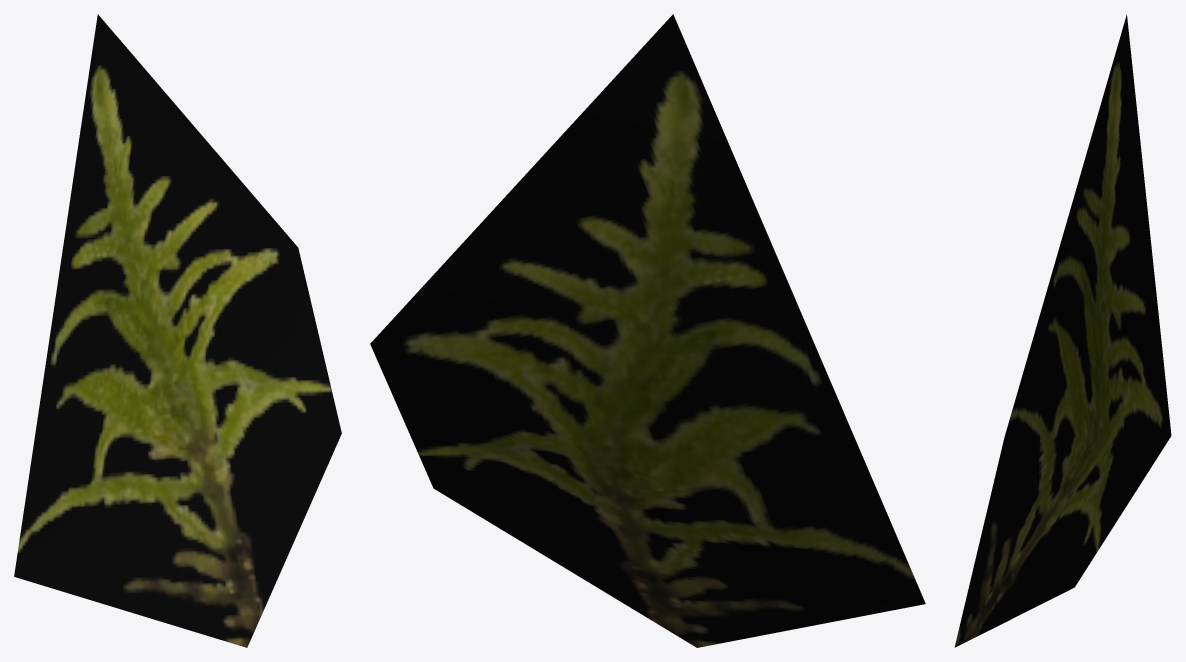
Rendered from moss_01_h.glb.
3 views of the same model, side by side, from view 1: azimuth 30°, elevation 25°; view 2: azimuth 150°, elevation 25°; view 3: azimuth 270°, elevation 25° (orthographic). The views are drawn at different scales.
Parts seen in each view (by area): view 1: moss_01_h_LOD0; view 2: moss_01_h_LOD0; view 3: moss_01_h_LOD0.
Part boxes in pixels (x1,y1,x2,y2): moss_01_h_LOD0: (14, 14, 341, 647); moss_01_h_LOD0: (370, 14, 925, 647); moss_01_h_LOD0: (954, 14, 1171, 647).
Size of the model in its own units: 0.0114 by 0.0176 by 0.00575.
Materials: 1 (1 with a texture image).
